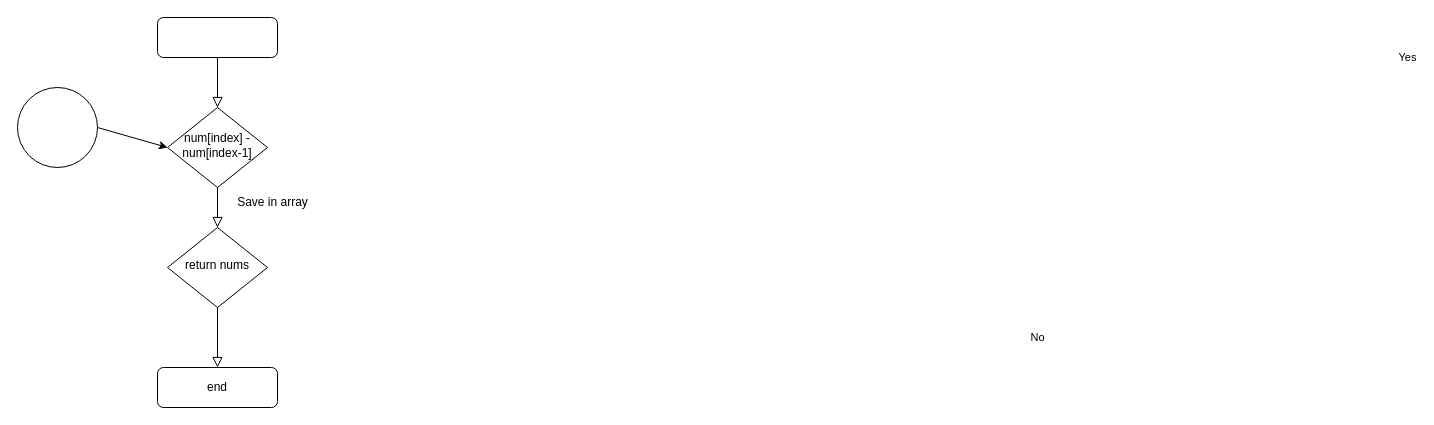
The diagram is 1434 pixels wide and 425 high, and some of its shapes have lost their labels. The centre of each missing label's shape, as x and y in pixels:
"Calculate a running sum" belongs at point 217,37.
"for loop" belongs at point 57,127.
